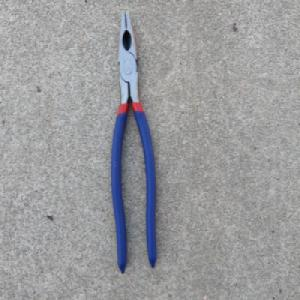Pliers: (109, 7, 158, 276)
